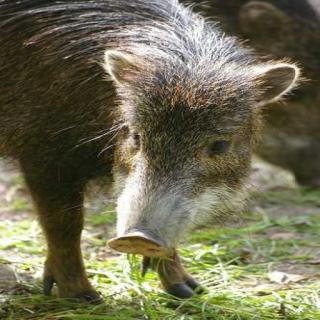Pig: (20, 0, 312, 284)
